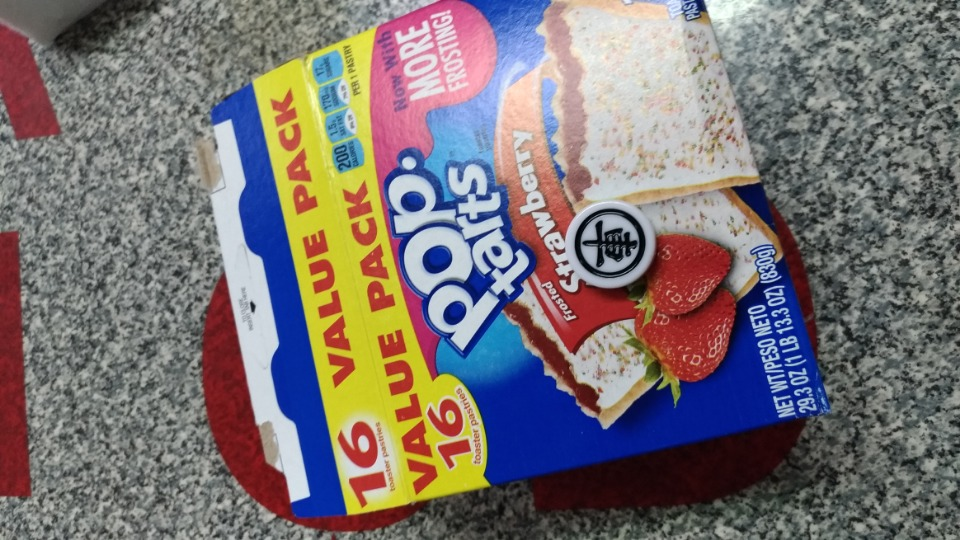b-king: (547, 188, 674, 309)
